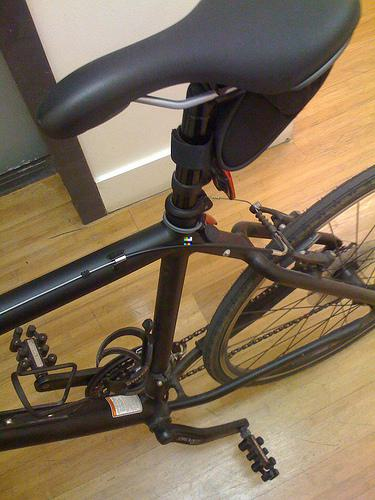car: (1, 1, 375, 481)
